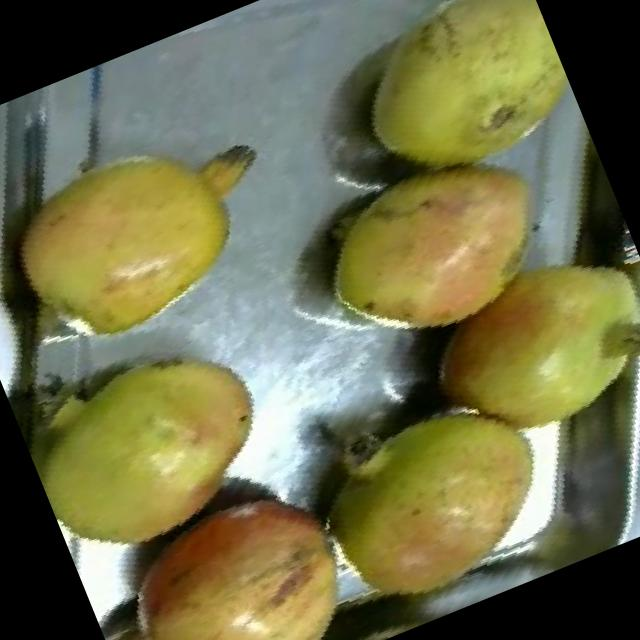fruit: (1, 290, 324, 596), (266, 102, 598, 396), (267, 344, 595, 640), (0, 76, 305, 393), (373, 202, 640, 499), (63, 434, 403, 640), (302, 0, 596, 232)
